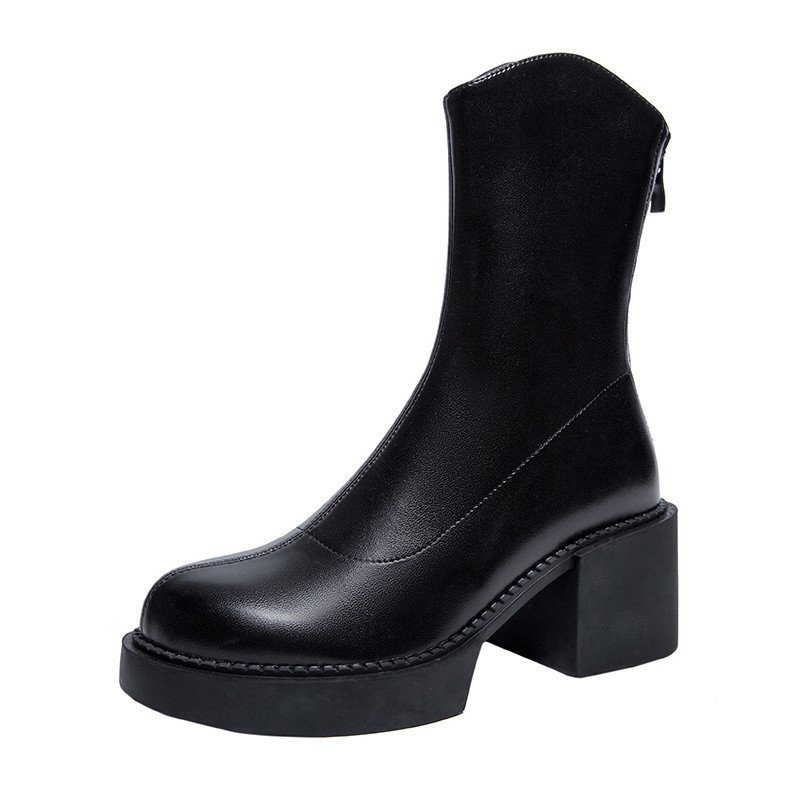boots: (118, 53, 688, 742)
